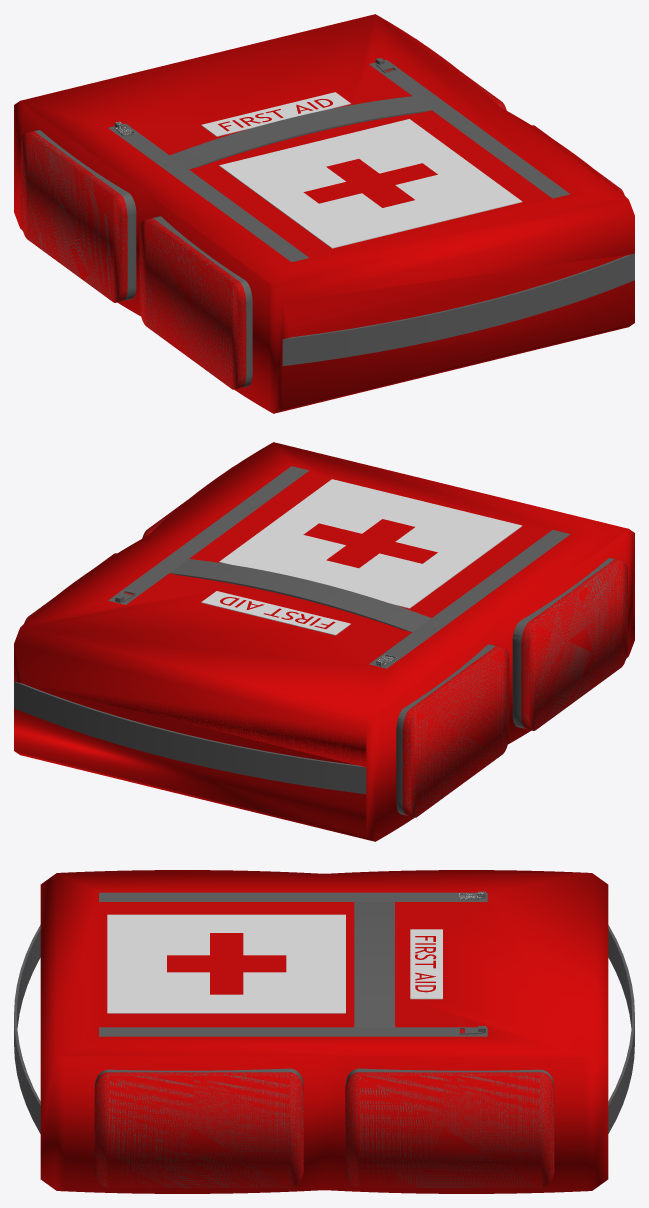
The model's file is first aid.fbx.
3 views of the same model, one above another, from view 1: azimuth 30°, elevation 25°; view 2: azimuth 150°, elevation 25°; view 3: azimuth 270°, elevation 25° (orthographic). The views are drawn at different scales.
Parts seen in each view (by area): view 1: SketchUp.001; view 2: SketchUp.001; view 3: SketchUp.001.
Part boxes in pixels (x1=…): SketchUp.001: x1=14, y1=14, x2=634, y2=413; SketchUp.001: x1=14, y1=442, x2=634, y2=841; SketchUp.001: x1=14, y1=870, x2=634, y2=1193.
Bounding box in the file's own units: 27.99 × 9.32 × 36.65.
